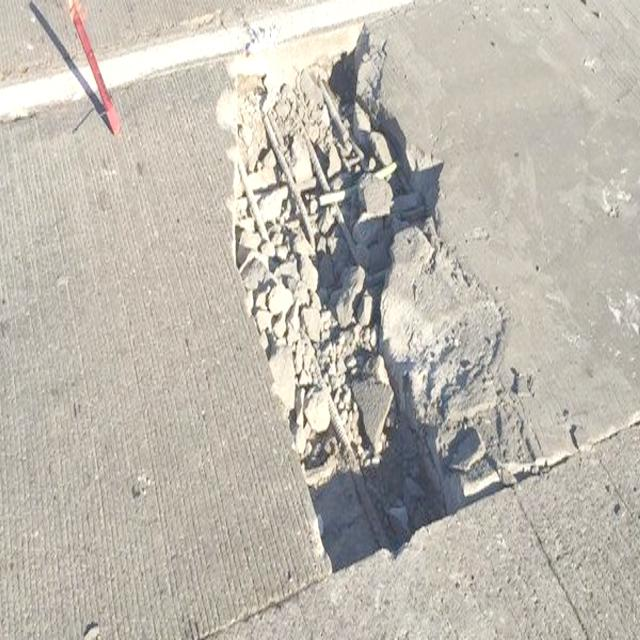Pothole: (205, 19, 528, 594)
